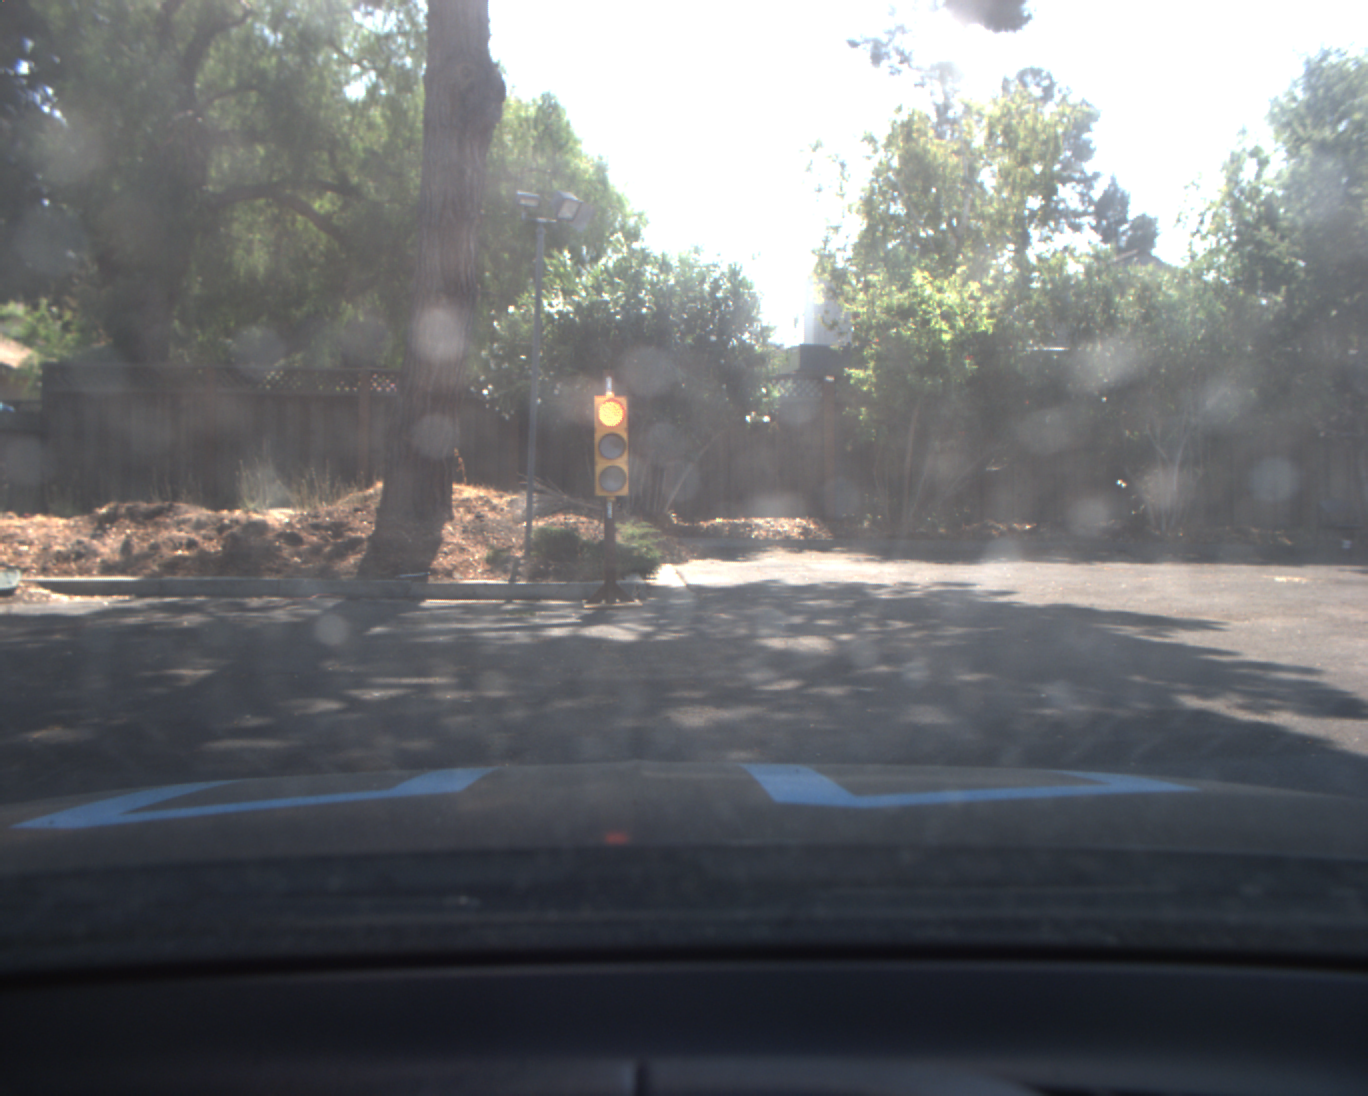red: (589, 393, 632, 497)
